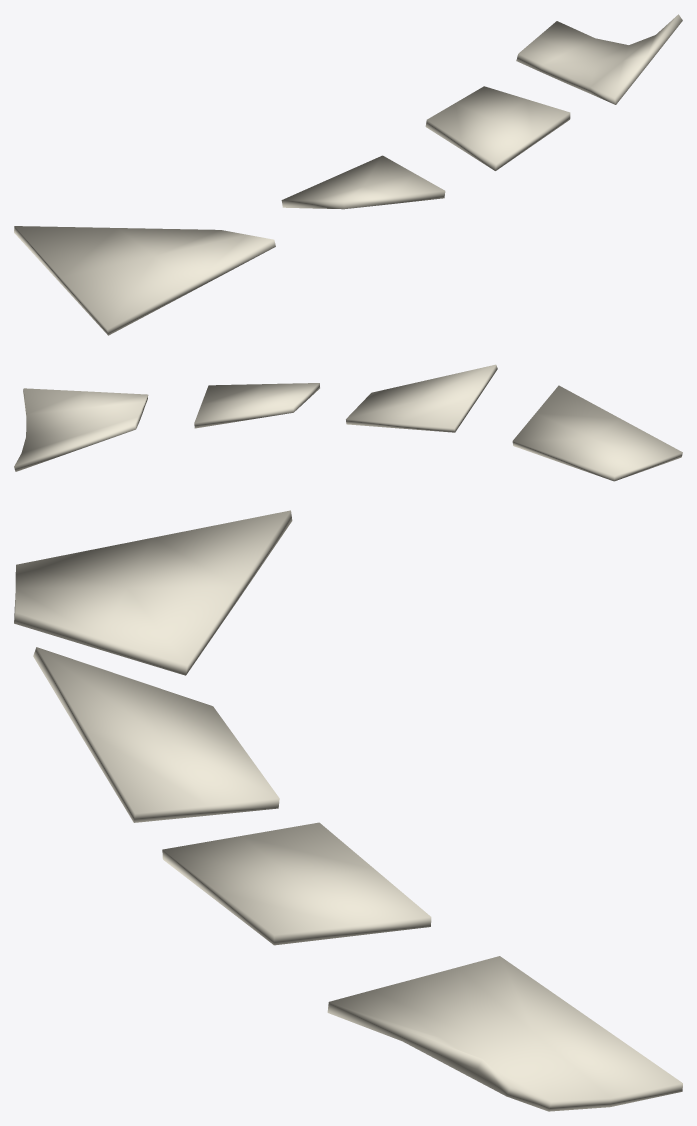
3 views of the same model, one above another, from view 1: azimuth 30°, elevation 25°; view 2: azimuth 150°, elevation 25°; view 3: azimuth 270°, elevation 25° (orthographic). The views are drawn at different scales.
Parts seen in each view (by area): view 1: ZA_5364be1c3fdebc56; view 2: ZA_5364be1c3fdebc56; view 3: ZA_5364be1c3fdebc56.
Boxes of the visible parts, x1=… form: ZA_5364be1c3fdebc56: x1=14, y1=14, x2=682, y2=335; ZA_5364be1c3fdebc56: x1=14, y1=364, x2=682, y2=481; ZA_5364be1c3fdebc56: x1=14, y1=510, x2=682, y2=1111.
Size of the model in its own units: 0.0541 by 0.00659 by 0.0288.
